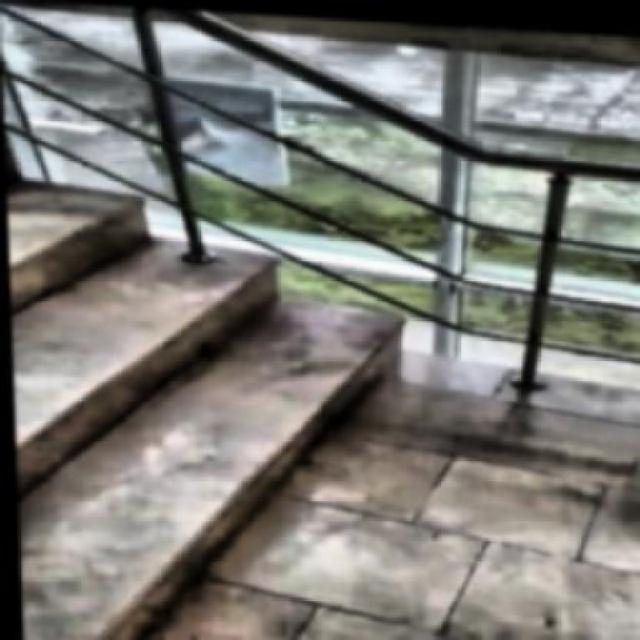stair: (3, 103, 462, 639)
